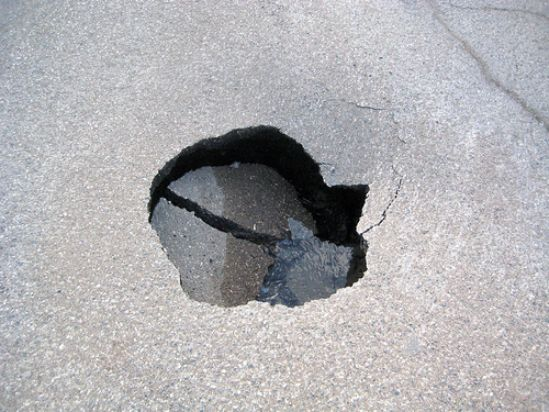pothole: (142, 122, 375, 308)
